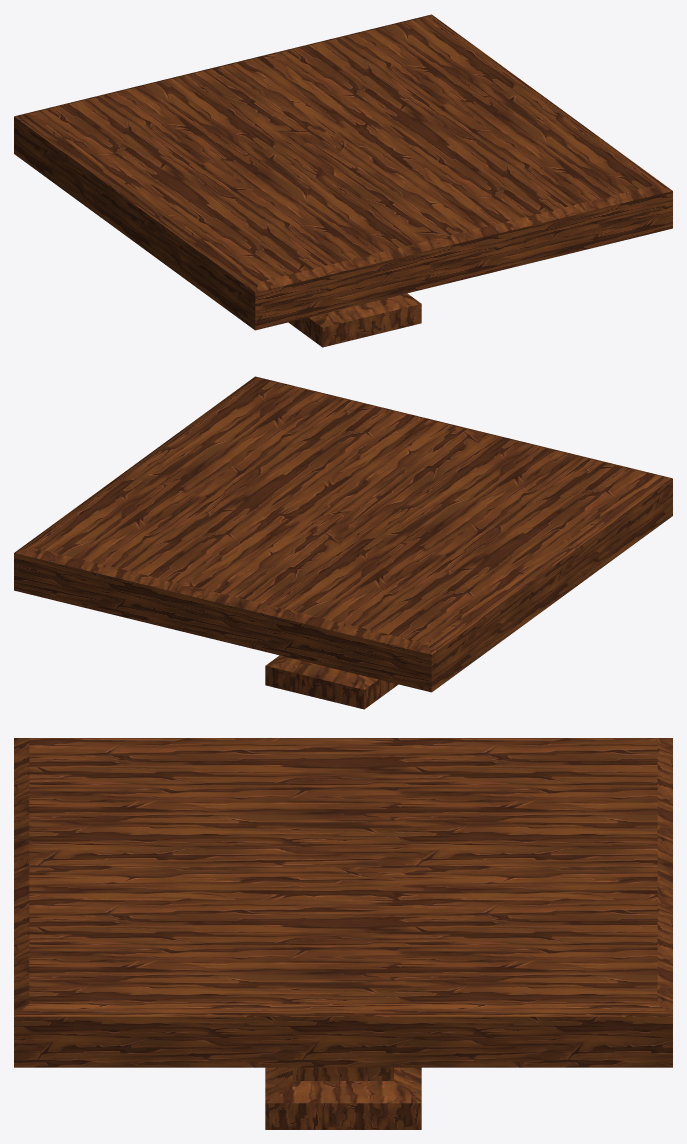
Rendered from Small table.fbx.
3 views of the same model, one above another, from view 1: azimuth 30°, elevation 25°; view 2: azimuth 150°, elevation 25°; view 3: azimuth 270°, elevation 25° (orthographic). The views are drawn at different scales.
Parts seen in each view (by area): view 1: Cube.090; view 2: Cube.090; view 3: Cube.090.
Boxes of the visible parts, x1,y1,x2,y2 form: Cube.090: [14, 14, 672, 347]; Cube.090: [14, 376, 672, 709]; Cube.090: [14, 738, 672, 1129].
Bounding box in the file's own units: 160 × 60.49 × 160.
1 material, 1 textured.
